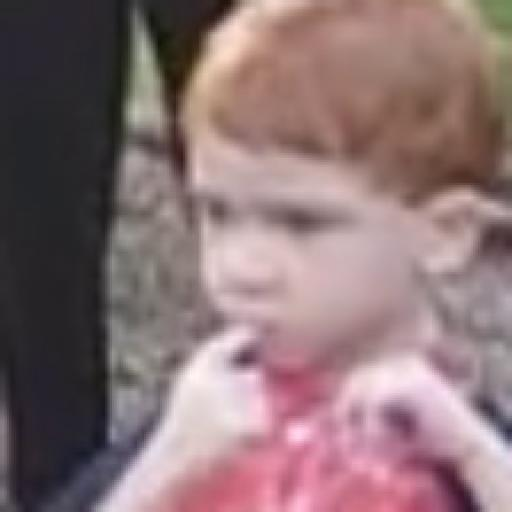Autism: (164, 58, 477, 443)
